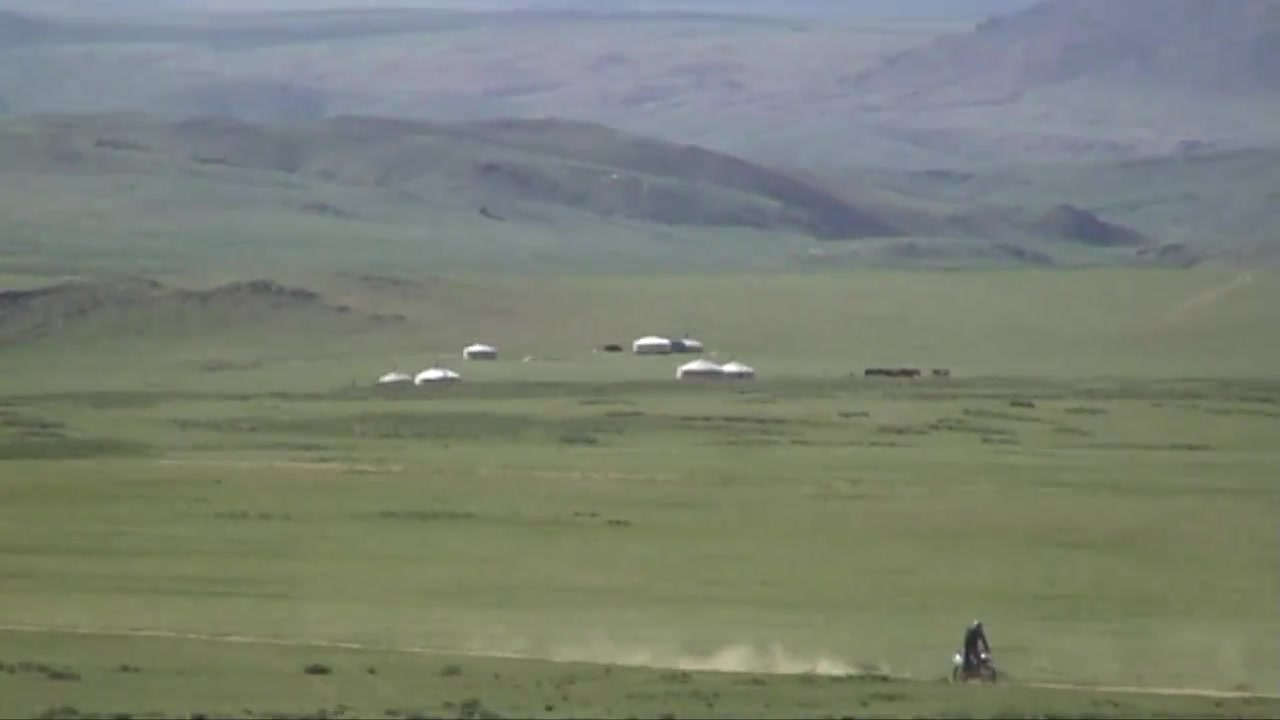motorbike: (944, 650, 1005, 686)
